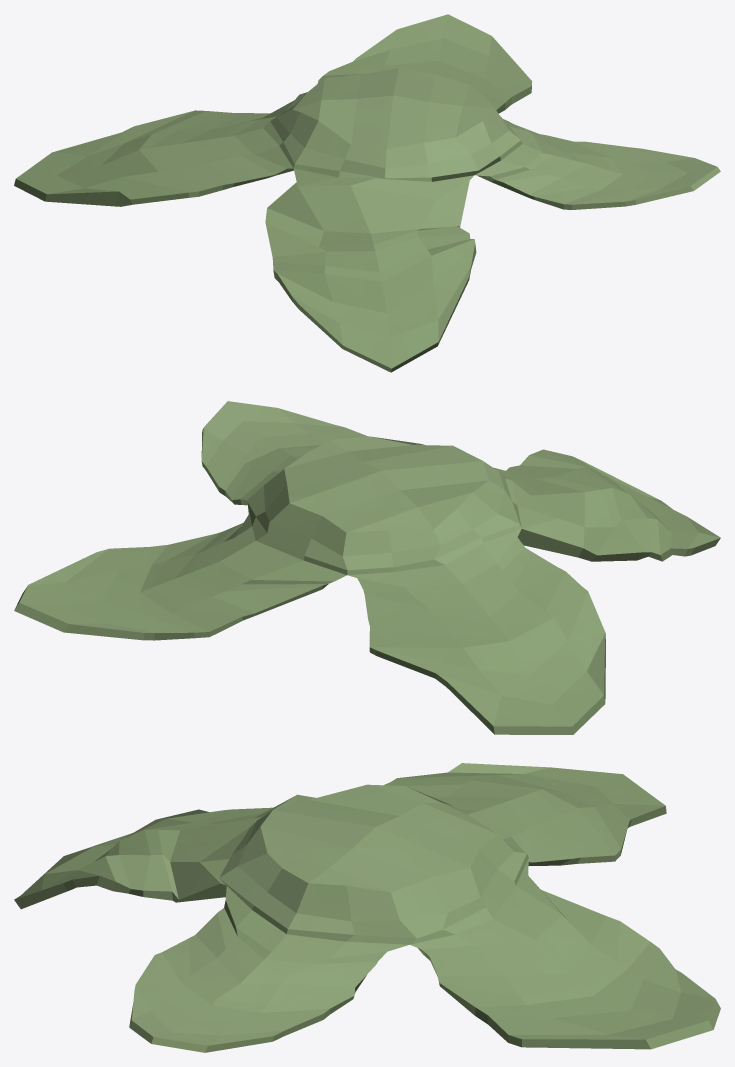
The model's file is flower_petal_1_a.glb.
The picture shows the model from 3 angles, top to bottom: view 1: azimuth 30°, elevation 25°; view 2: azimuth 150°, elevation 25°; view 3: azimuth 270°, elevation 25°; orthographic projection. The views are drawn at different scales.
Parts seen in each view (by area): view 1: flower_petal_1_a; view 2: flower_petal_1_a; view 3: flower_petal_1_a.
Part boxes in pixels (x1=…): flower_petal_1_a: x1=14, y1=14, x2=720, y2=372; flower_petal_1_a: x1=14, y1=401, x2=720, y2=734; flower_petal_1_a: x1=14, y1=763, x2=720, y2=1052.
Size of the model in its own units: 0.2183 by 0.0554 by 0.2162.
Materials: 1 (1 with a texture image).
